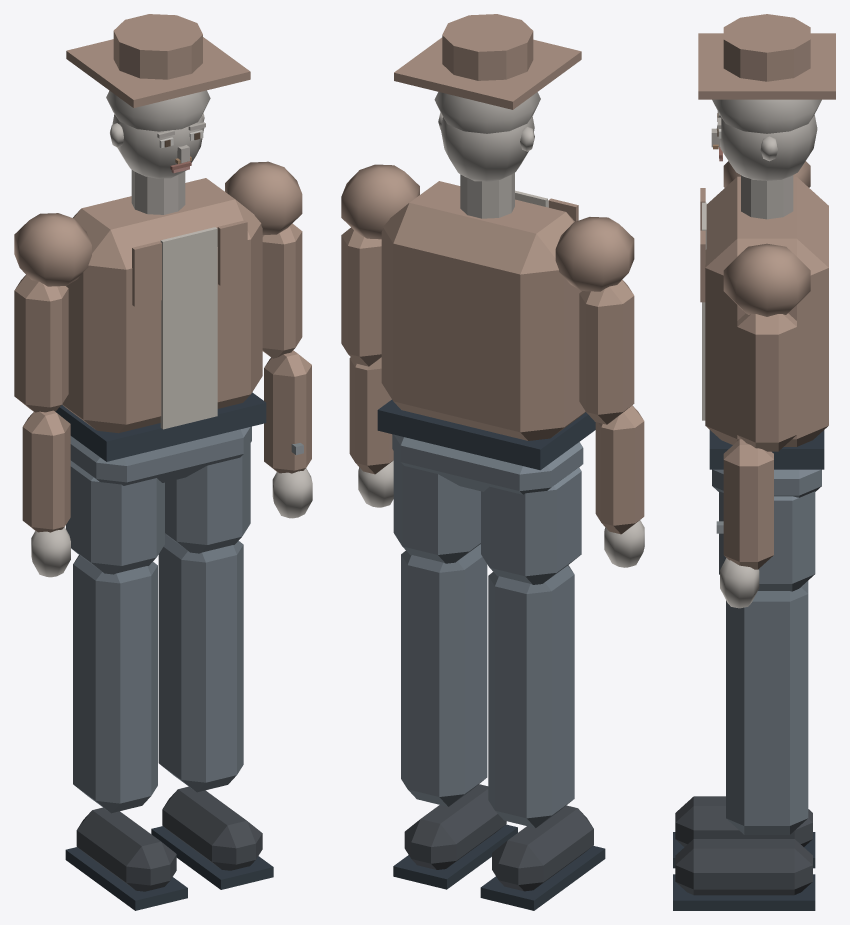
The model's file is personaje_informant.glb.
The picture shows the model from 3 angles, left to right: view 1: azimuth 30°, elevation 25°; view 2: azimuth 150°, elevation 25°; view 3: azimuth 270°, elevation 25°; orthographic projection.
Size of the model in its own units: 0.72 by 2.03 by 0.355.
